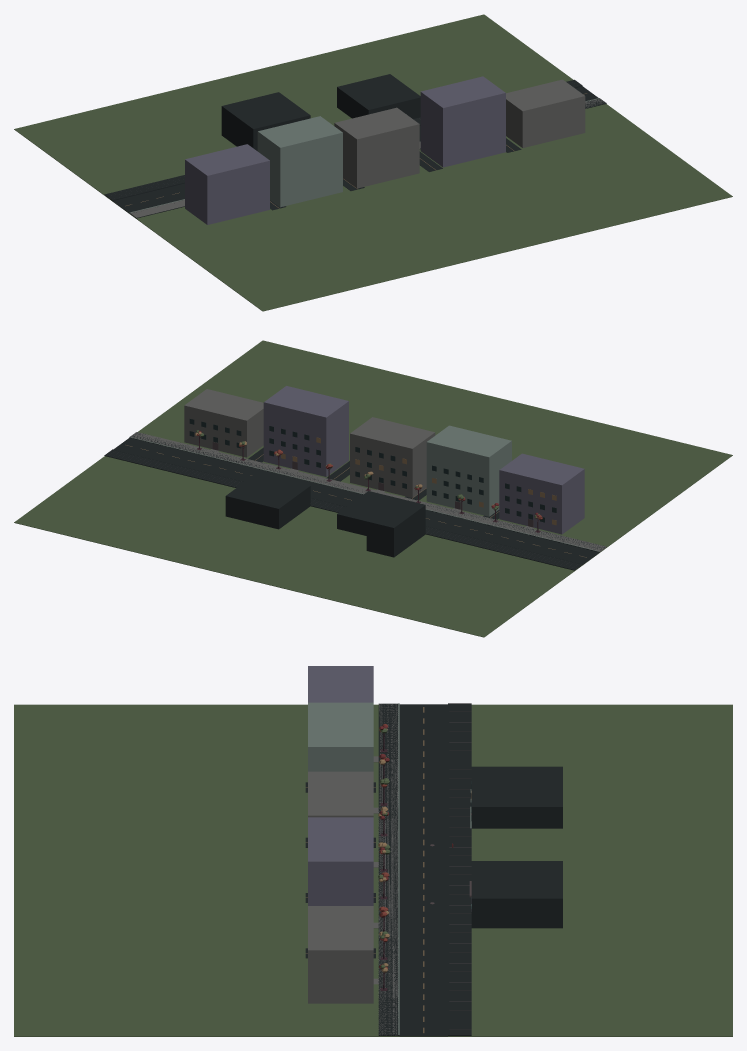
The model's file is casino_strada.glb.
3 views of the same model, one above another, from view 1: azimuth 30°, elevation 25°; view 2: azimuth 150°, elevation 25°; view 3: azimuth 270°, elevation 25° (orthographic). The views are drawn at different scales.
Visible parts, largest first — view 1: Strada, Coliziune; view 2: Strada, Coliziune; view 3: Strada, Coliziune.
Boxes of the visible parts, x1,y1,x2,y2 form: Strada: (14, 14, 732, 311); Coliziune: (104, 74, 606, 218); Strada: (14, 340, 732, 637); Coliziune: (104, 432, 604, 570); Strada: (14, 666, 732, 1036); Coliziune: (378, 703, 562, 1036).
Bounding box in the file's own units: 120 × 14.66 × 110.
